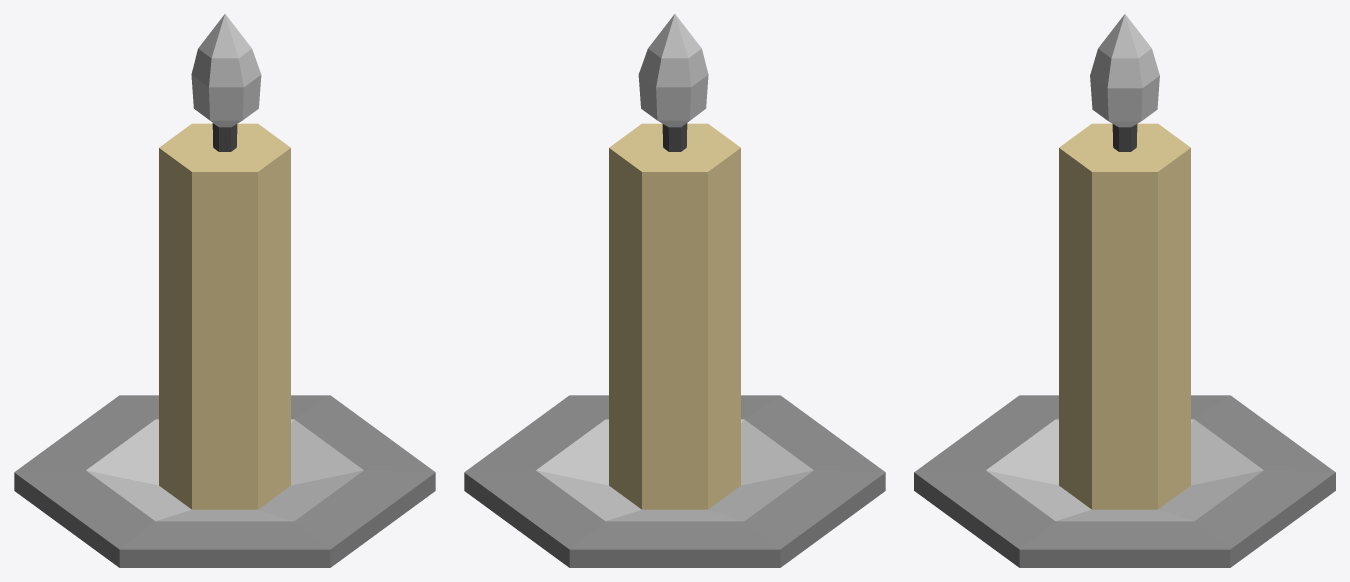
Rendered from Candle.fbx.
3 views of the same model, side by side, from view 1: azimuth 30°, elevation 25°; view 2: azimuth 150°, elevation 25°; view 3: azimuth 270°, elevation 25° (orthographic).
Visible parts, largest first — view 1: Candle; view 2: Candle; view 3: Candle.
Part boxes in pixels (x1,y1,x2,y2): Candle: [14, 14, 435, 567]; Candle: [464, 14, 885, 567]; Candle: [914, 14, 1335, 567].
Bounding box in the file's own units: 181 × 260 × 208.
